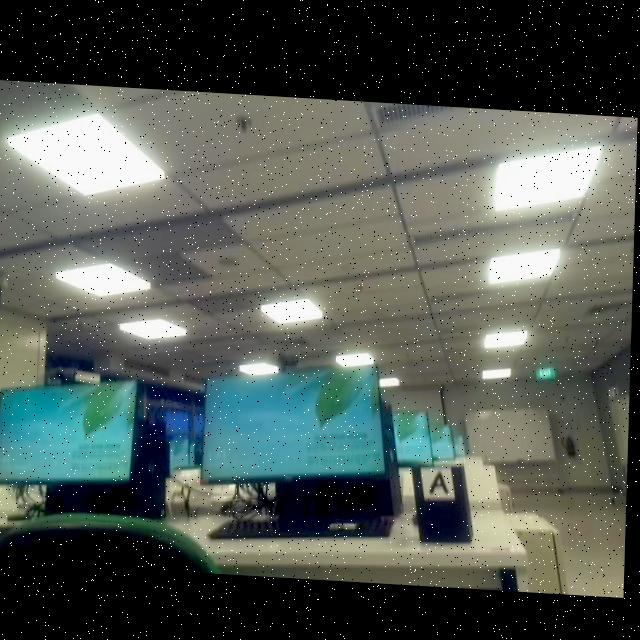A: (432, 464, 452, 490)
